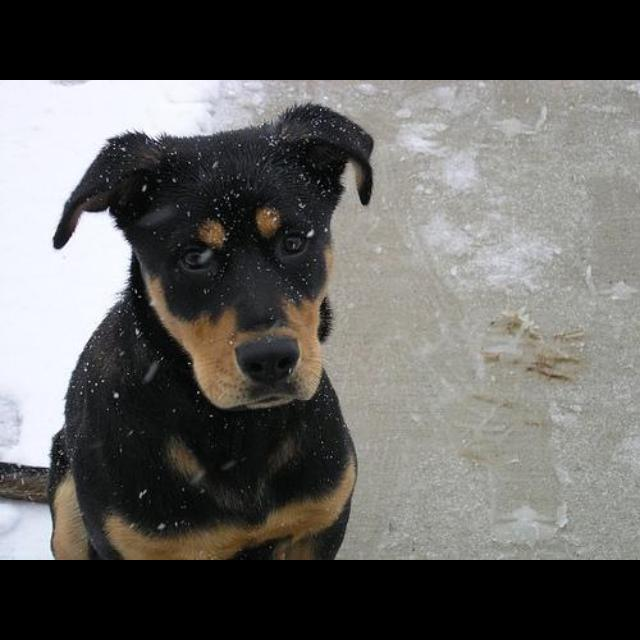rottweiler: (46, 101, 376, 560)
